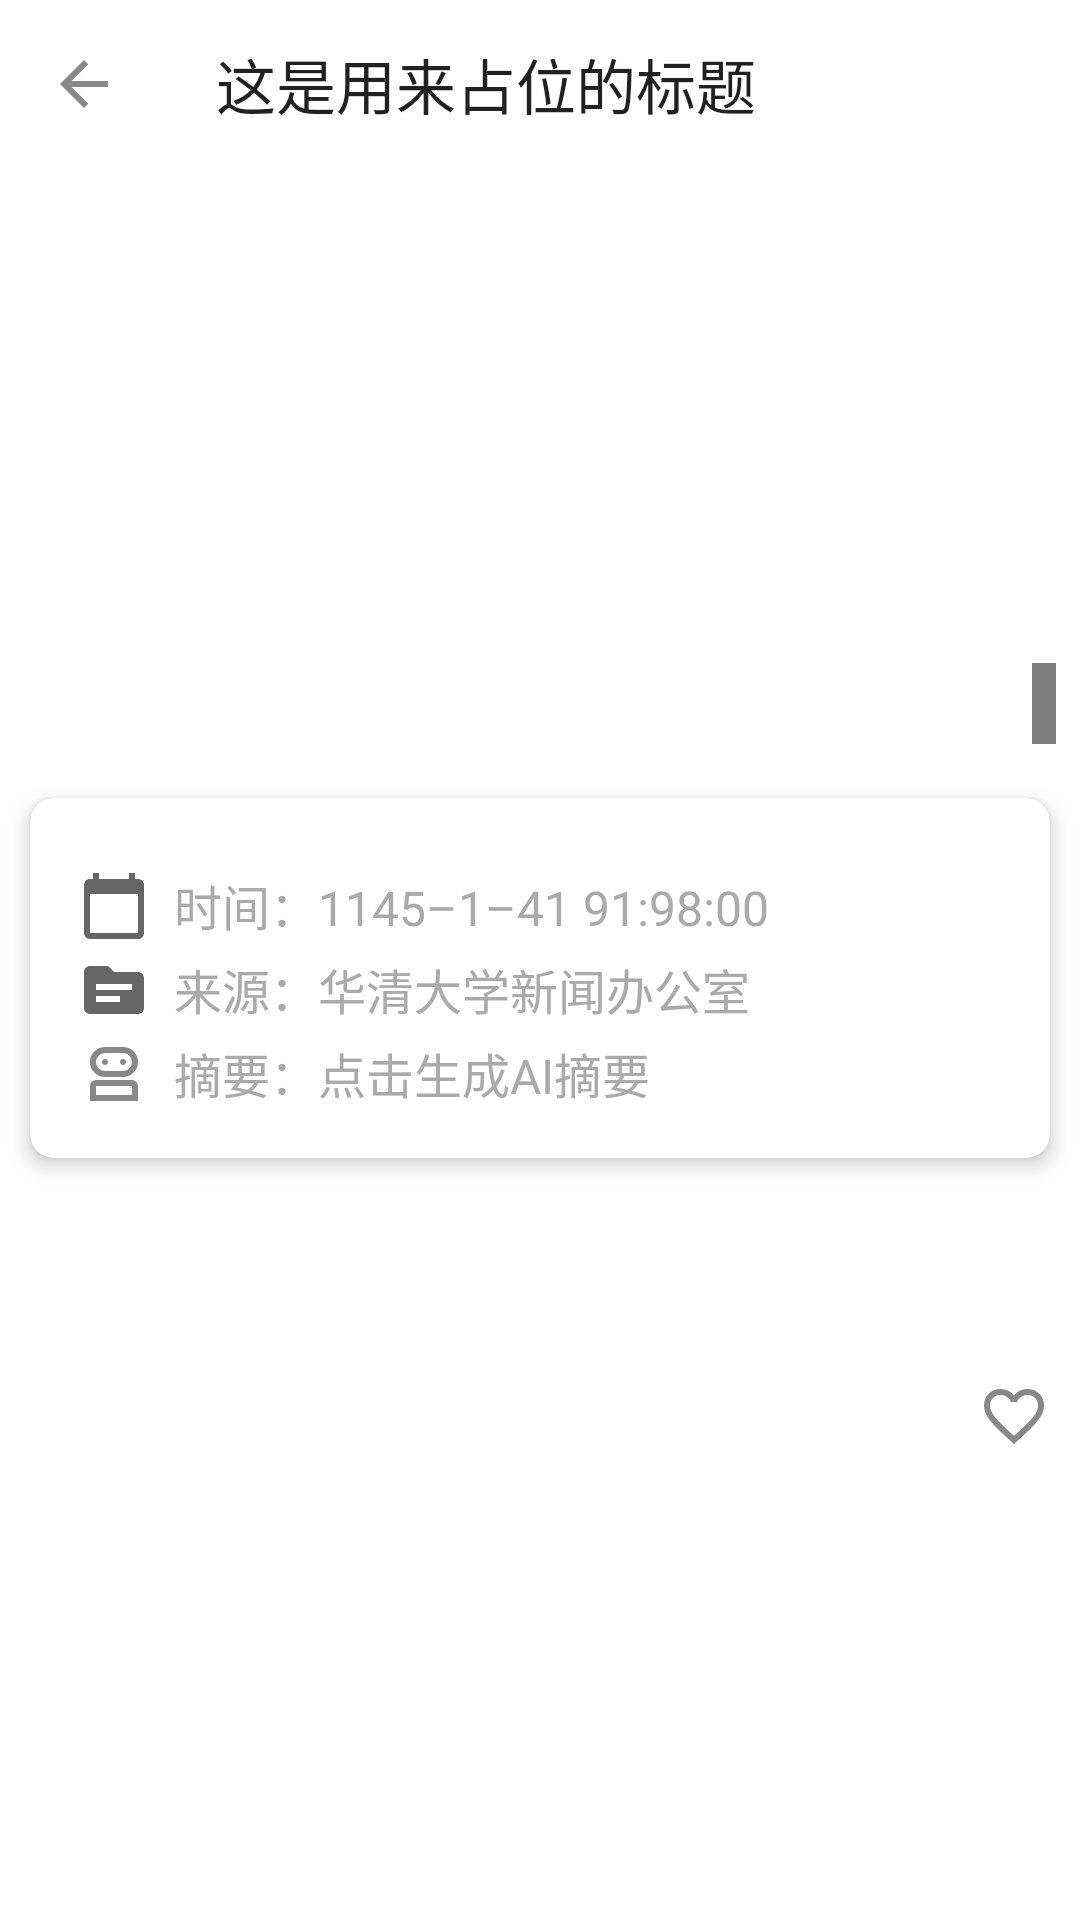

Locate icon controls on the screen. Image size 1080*1920, boxes as bbox(x1, y1, x2, y2).
calendar today: bbox(84, 873, 144, 939)
robot: bbox(90, 1047, 138, 1101)
source: bbox(84, 966, 144, 1014)
收藏按钮: bbox(984, 1389, 1044, 1444)
